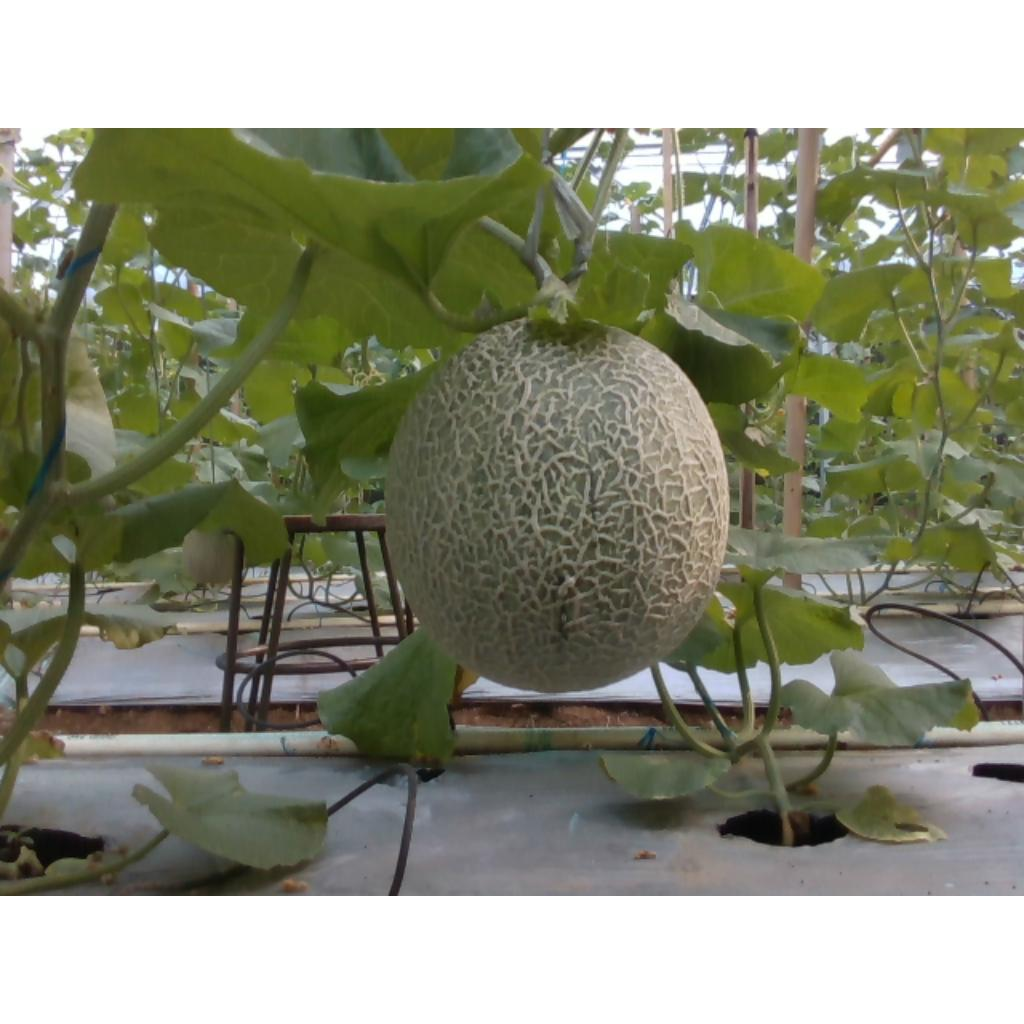melon: (389, 318, 730, 692)
